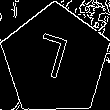L_S: (34, 32, 77, 89)
